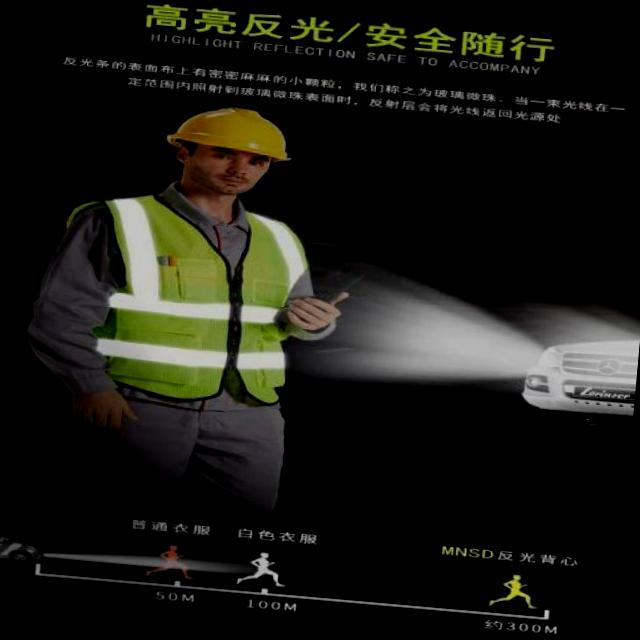vest: (88, 182, 305, 412)
